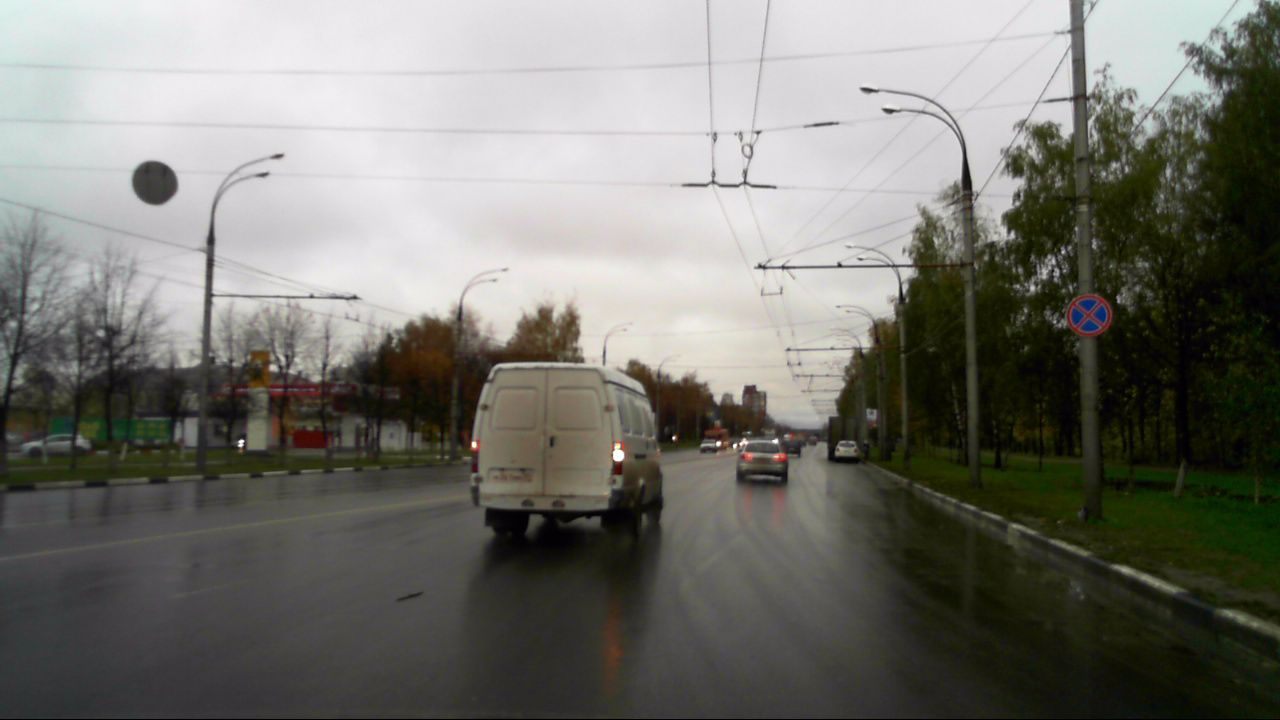No Parking: (1065, 291, 1114, 336)
